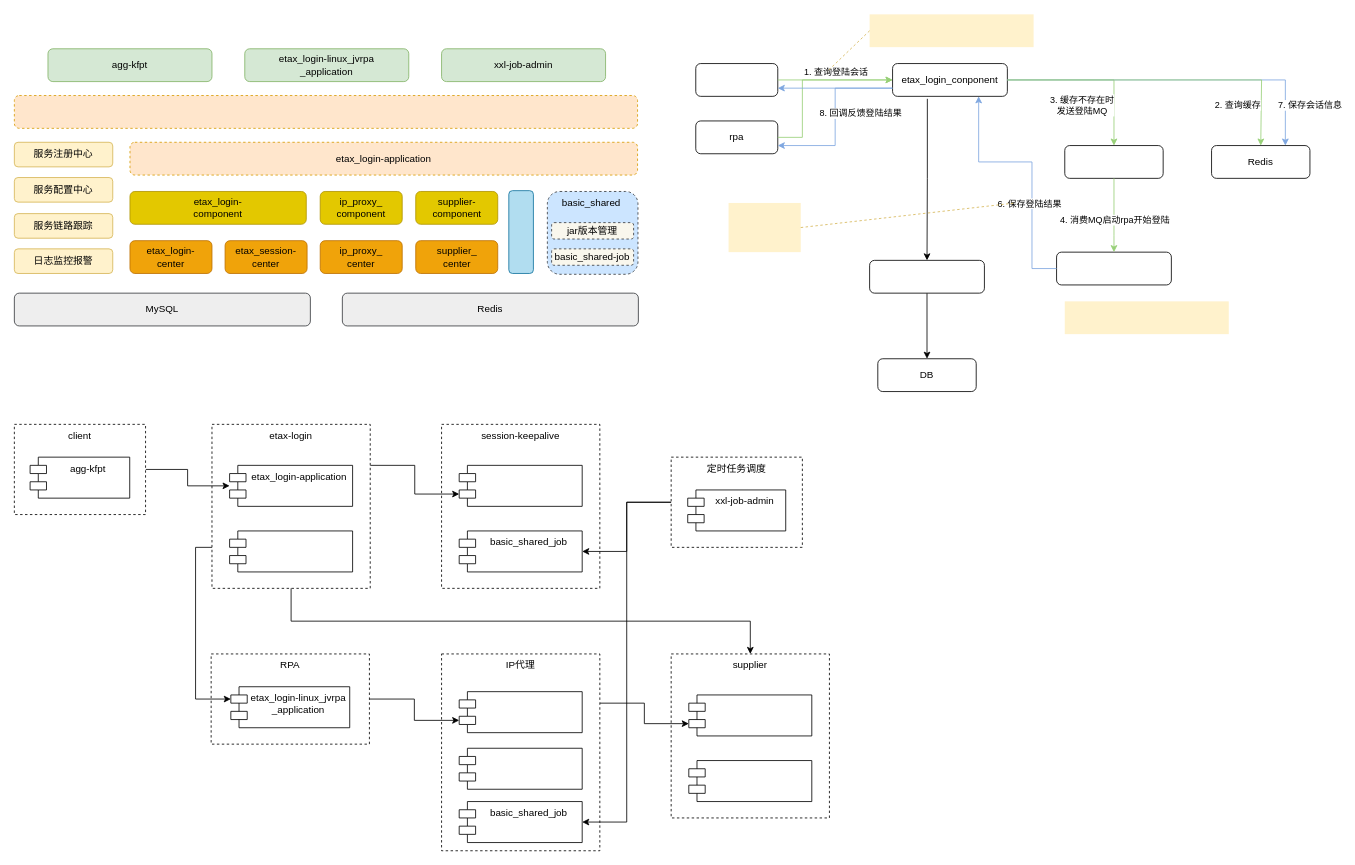
The diagram is 1355 pixels wide and 865 high, and some of its shapes have lost their labels. Each missing label, with the centre of its shape:
5. rpa模拟登陆，获取登陆会话信息: the point at 1146,317
etax_login-center: the point at 291,551
etax_login_center: the point at 926,276
etax_login_linux_jvrpa: the point at 1113,268
etax_session-center: the point at 520,485
ip_proxy_center: the point at 520,768
ip_proxy_component: the point at 520,712
MQ: the point at 520,231
RocketMQ: the point at 1113,161
supplier_center: the point at 750,781
supplier_component: the point at 750,715
weblocalapi-gateway: the point at 326,111
不管登陆成功 或者失败都要 反馈结果: the point at 764,227
办税助手: the point at 736,79
缓存存在时直接返回会话信息，否则返回任务id和执行中的状态信息: the point at 951,30
